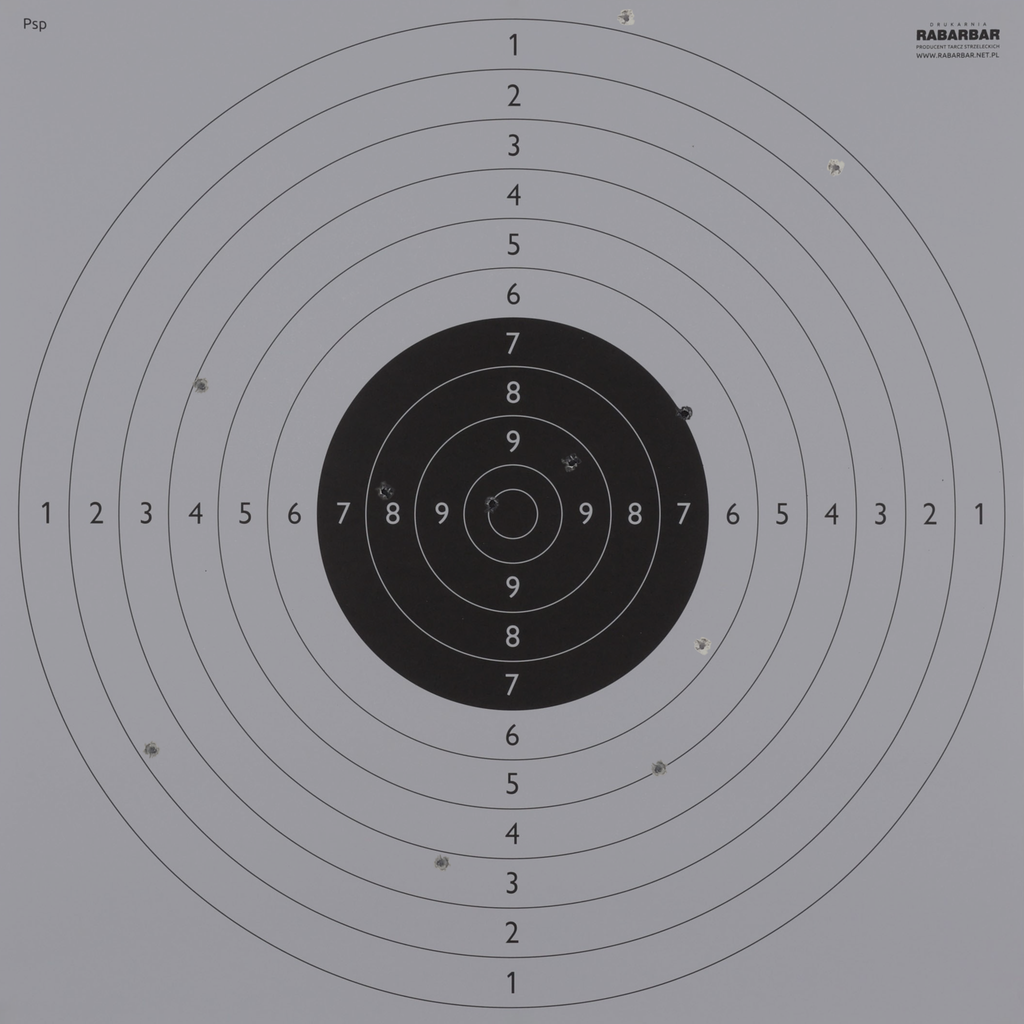0 punktow: (617, 9, 635, 27)
1 punkt: (827, 159, 845, 177)
10 punktow: (483, 495, 501, 513)
2 punkty: (143, 741, 162, 759)
3 punkty: (432, 854, 450, 872)
4 punkty: (192, 377, 211, 395)
5 punktow: (649, 760, 668, 778)
6 punktow: (693, 637, 711, 655)
7 punktow: (675, 404, 694, 423)
8 punktow: (375, 482, 394, 501)
9 punktow: (563, 453, 581, 472)
